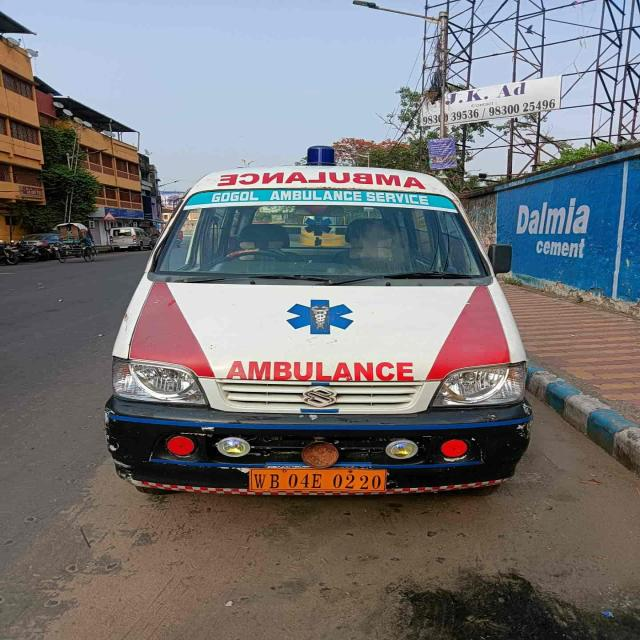car: (110, 228, 150, 250)
emergency: (105, 161, 532, 495)
